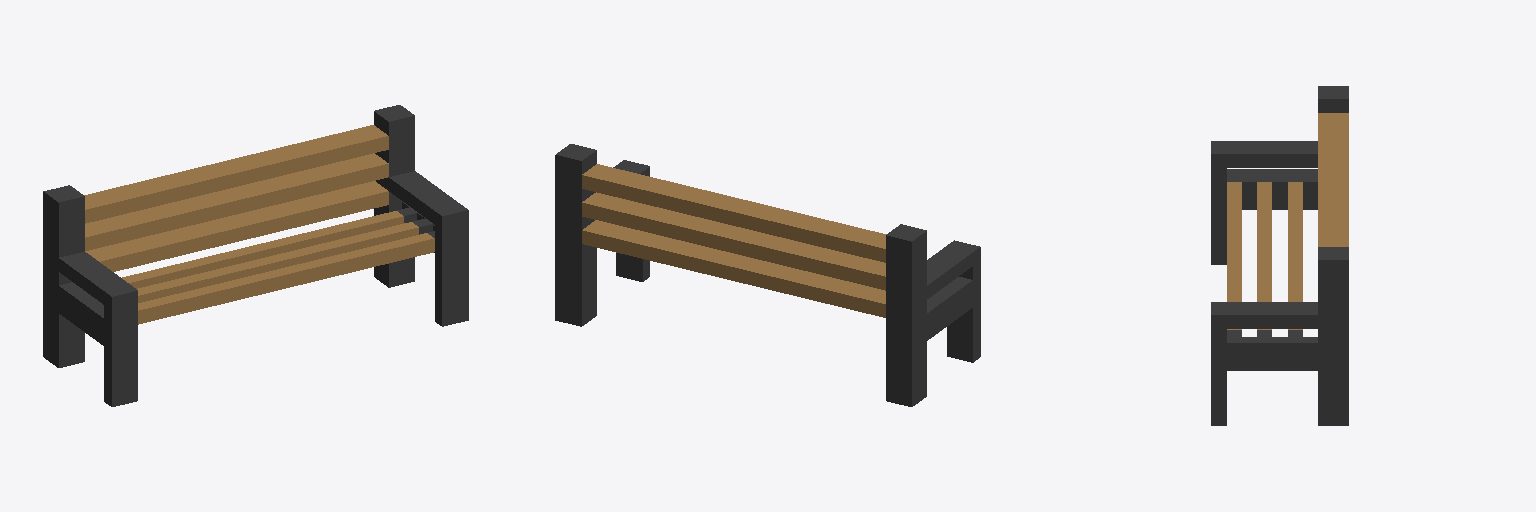
3 renders of one model, left to right at view 1: azimuth 30°, elevation 25°; view 2: azimuth 150°, elevation 25°; view 3: azimuth 270°, elevation 25°, orthographic.
Parts seen in each view (by area): view 1: object 1; view 2: object 1; view 3: object 1.
Boxes of the visible parts, x1,y1,x2,y2 form: object 1: [43, 105, 468, 406]; object 1: [555, 144, 980, 406]; object 1: [1211, 86, 1348, 425].
Bounding box in the file's own units: 2.7 × 1.2 × 0.9.
Materials: 1 (1 with a texture image).